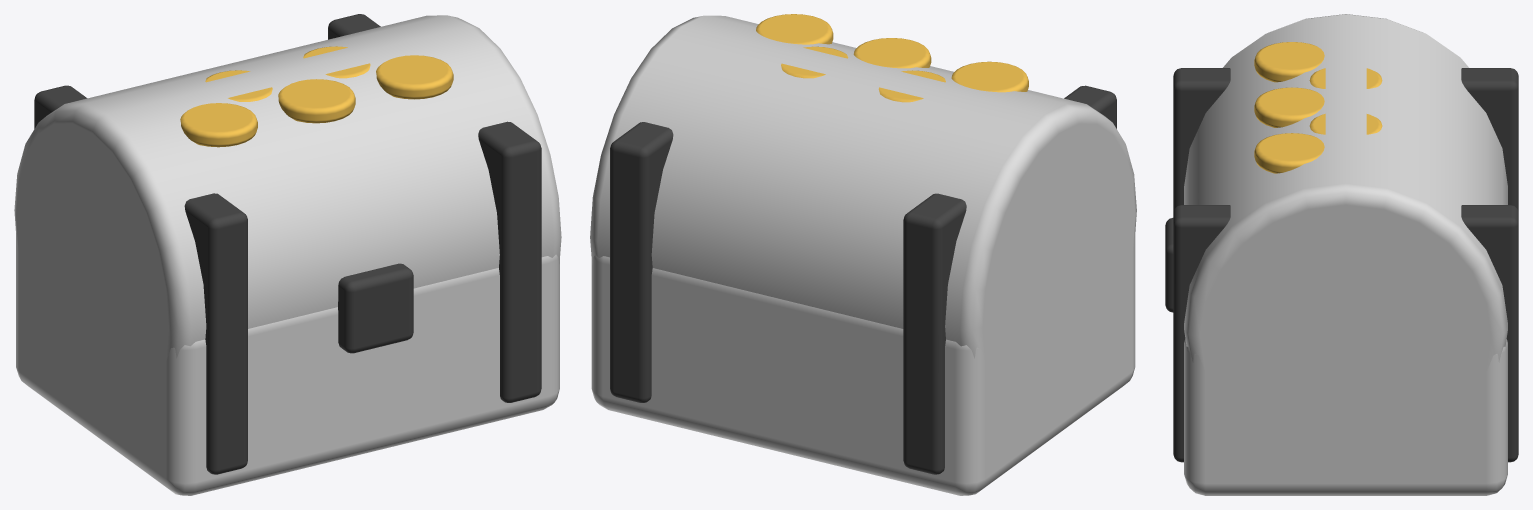
Rendered from chest.glb.
3 views of the same model, side by side, from view 1: azimuth 30°, elevation 25°; view 2: azimuth 150°, elevation 25°; view 3: azimuth 270°, elevation 25° (orthographic). The views are drawn at different scales.
Visible parts, largest first — view 1: chest; view 2: chest; view 3: chest.
Part boxes in pixels (left/top/right/bottom): chest: left=14, top=14, right=561, bottom=495; chest: left=590, top=14, right=1136, bottom=495; chest: left=1165, top=14, right=1518, bottom=495.
Bounding box in the file's own units: 0.8 × 0.64 × 0.655.
